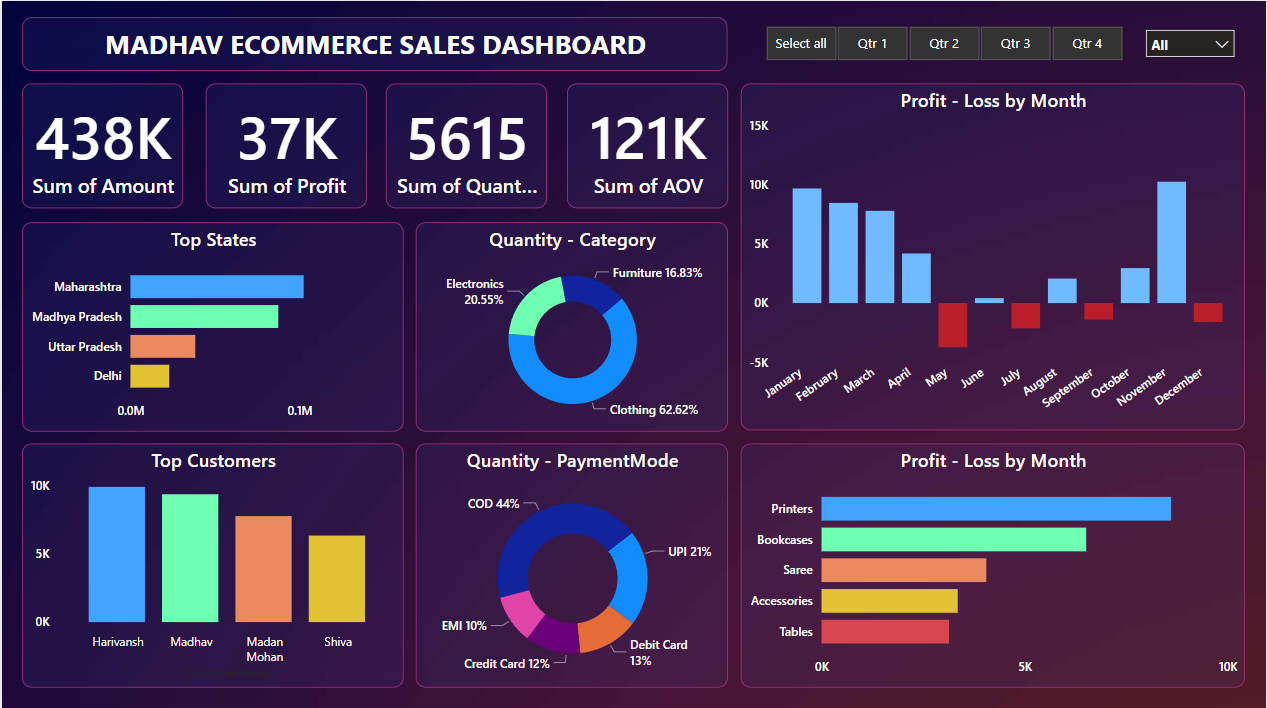

This screenshot's page, from the dashboard's own definition file:
{"tool":"powerbi","page":{"name":"Page 1","canvas":[1280,720],"ordinal":0},"visuals":[{"type":"textbox","box":[20.6,16.2,714.7,54.4],"z":0},{"type":"card","fields":{"Values":["Details.Amount"]},"box":[20.6,83.8,163.2,126.5],"z":1000},{"type":"columnChart","title":"Profit - Loss by Month","fields":{"Y":["Details.Profit"],"Category":["Orders.Order Date.Variation.Date Hierarchy.Month"]},"box":[748.5,83.8,510.3,351.5],"z":2000},{"type":"barChart","title":"Profit - Loss by Month","fields":{"Category":["Details.Sub-Category"],"Y":["Details.Profit"]},"box":[748.5,448.5,510.3,247.1],"z":3000},{"type":"donutChart","title":"Quantity - Category","fields":{"Category":["Details.Category"],"Y":["Details.Quantity"]},"box":[419.1,223.5,316.2,211.8],"z":4000},{"type":"donutChart","title":"Quantity - PaymentMode","fields":{"Y":["Details.Quantity"],"Category":["Details.PaymentMode"]},"box":[419.1,448.5,316.2,247.1],"z":5000},{"type":"columnChart","title":"Top Customers","fields":{"Category":["Orders.CustomerName"],"Y":["Details.Amount"]},"box":[20.6,448.5,386.8,247.1],"z":6000},{"type":"barChart","title":"Top States","fields":{"Y":["Details.Amount"],"Category":["Orders.State"]},"box":[20.6,223.5,386.8,211.8],"z":7000},{"type":"card","fields":{"Values":["Details.Profit"]},"box":[205.9,83.8,163.2,126.5],"z":8000},{"type":"card","fields":{"Values":["Details.AOV"]},"box":[572.1,83.8,163.2,126.5],"z":9000},{"type":"card","fields":{"Values":["Details.Quantity"]},"box":[388.2,83.8,163.2,126.5],"z":10000},{"type":"slicer","fields":{"Values":["Orders.Order Date.Variation.Date Hierarchy.Quarter"]},"box":[748.2,19.1,410,48.2],"z":11000},{"type":"slicer","fields":{"Values":["Orders.State"]},"box":[1148.2,19.1,110,54.5],"z":12000}]}

Visuals, with their boxes in screenshot pixels (x1, y1, x2, y2), scaled from the page's 1280x720 canvas onto the 1267x708 screenshot:
textbox: crop(20, 16, 728, 69)
card - Details.Amount: crop(20, 82, 182, 207)
"Profit - Loss by Month" columnChart: crop(741, 82, 1246, 428)
"Profit - Loss by Month" barChart: crop(741, 441, 1246, 684)
"Quantity - Category" donutChart: crop(415, 220, 728, 428)
"Quantity - PaymentMode" donutChart: crop(415, 441, 728, 684)
"Top Customers" columnChart: crop(20, 441, 403, 684)
"Top States" barChart: crop(20, 220, 403, 428)
card - Details.Profit: crop(204, 82, 365, 207)
card - Details.AOV: crop(566, 82, 728, 207)
card - Details.Quantity: crop(384, 82, 546, 207)
slicer - Orders.Order Date.Variation.Date Hierarchy.Quarter: crop(741, 19, 1146, 66)
slicer - Orders.State: crop(1137, 19, 1245, 72)
